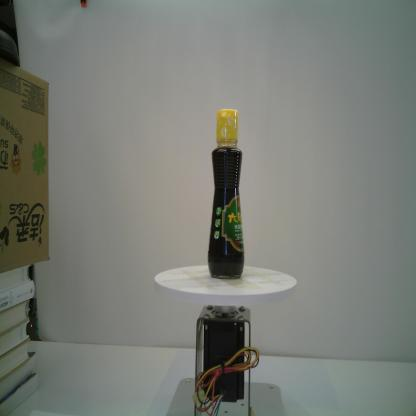Seasoner: (207, 109, 245, 281)
